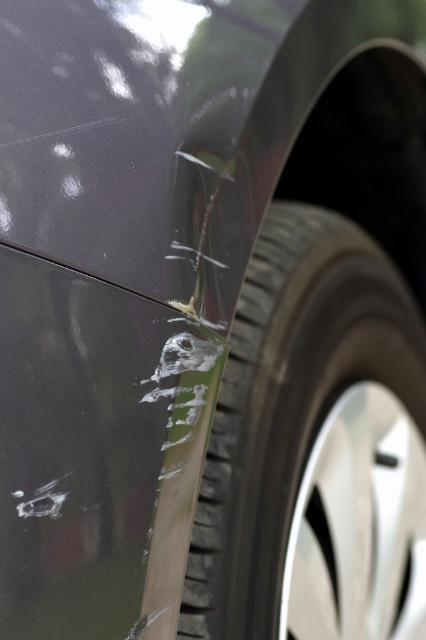dent: (174, 139, 261, 334)
scratch: (136, 318, 228, 557), (7, 479, 73, 522)
